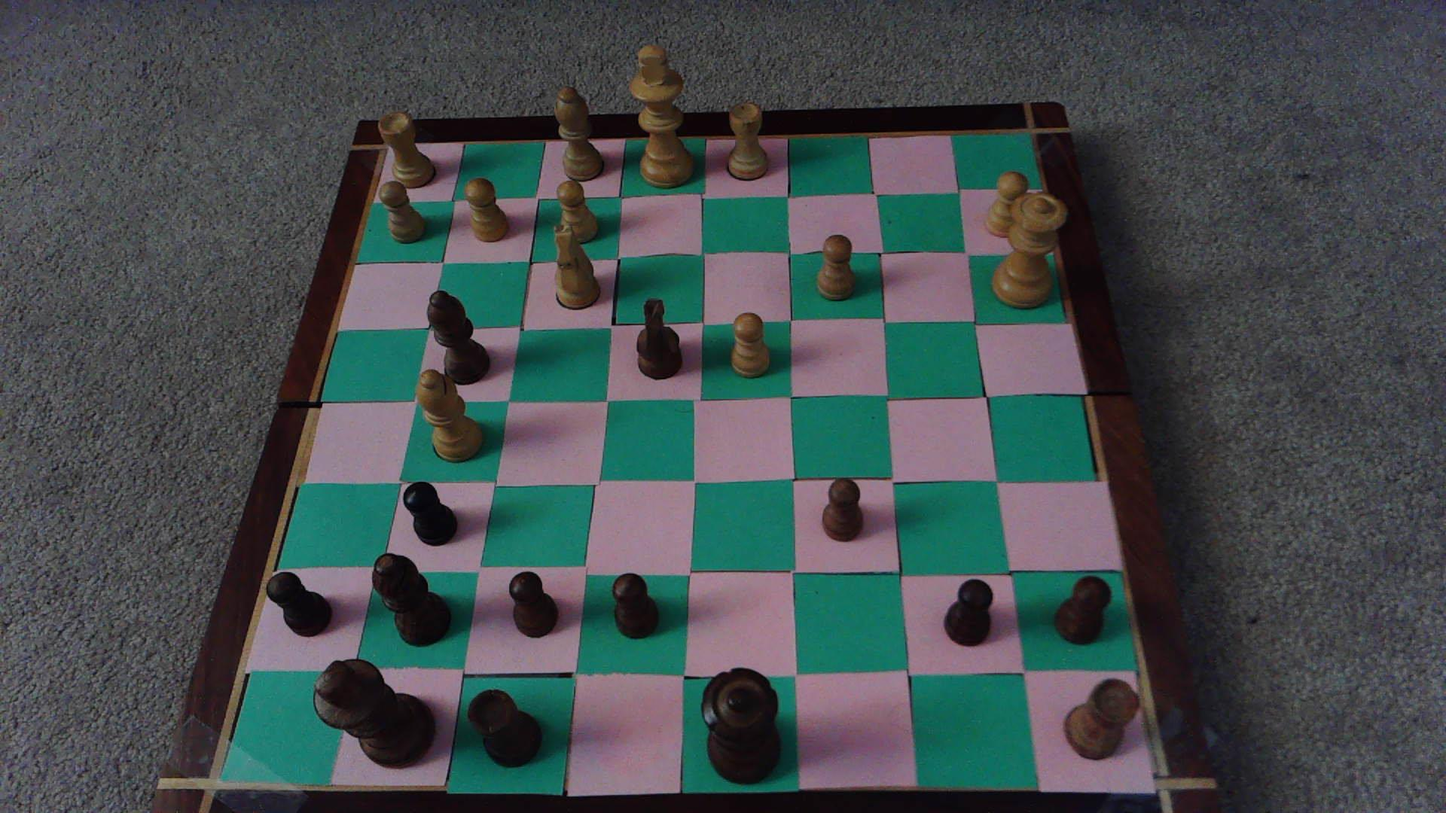dark_piece: (314, 659, 434, 766), (703, 668, 779, 782), (373, 553, 450, 645), (1065, 679, 1138, 759), (428, 291, 489, 385), (468, 689, 540, 766), (267, 572, 331, 636), (1055, 576, 1110, 644), (637, 299, 681, 378), (403, 482, 456, 545), (944, 579, 992, 645), (509, 571, 557, 637), (612, 573, 657, 638), (822, 479, 862, 540)
white_piece: (631, 45, 695, 188), (993, 193, 1066, 308), (416, 370, 482, 461), (553, 85, 605, 179), (377, 111, 433, 188), (552, 222, 600, 310), (725, 102, 769, 180), (987, 171, 1031, 240), (379, 181, 427, 242), (466, 178, 508, 243), (556, 179, 598, 243), (731, 312, 769, 376), (817, 234, 854, 299)
